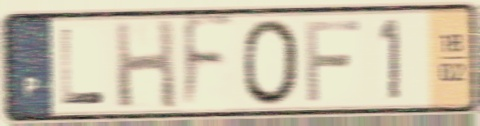1: (376, 16, 403, 104)
F: (179, 12, 238, 115), (303, 16, 364, 105)
H: (111, 16, 180, 112)
L: (57, 26, 108, 108)
O: (240, 16, 302, 108)
